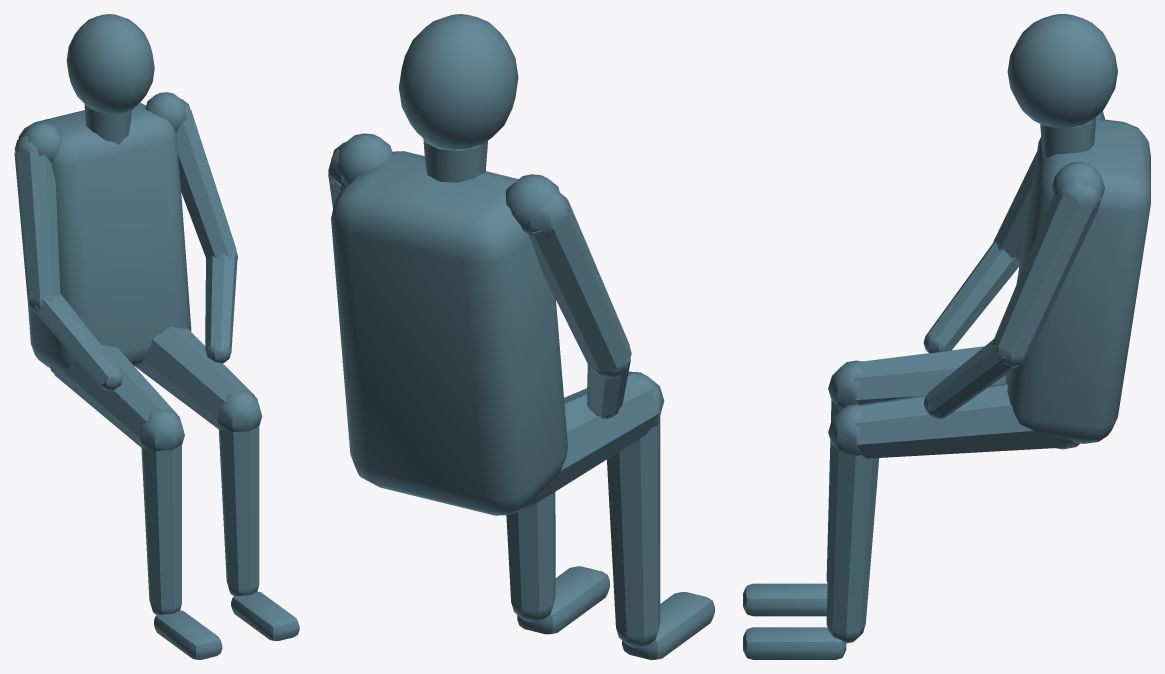
File: person-seated.glb
3 views of the same model, side by side, from view 1: azimuth 30°, elevation 25°; view 2: azimuth 150°, elevation 25°; view 3: azimuth 270°, elevation 25° (orthographic). The views are drawn at different scales.
Visible parts, largest first — view 1: person-seated; view 2: person-seated; view 3: person-seated.
Boxes of the visible parts, x1,y1,x2,y2 form: person-seated: (14,14,299,659); person-seated: (328,14,714,659); person-seated: (743,14,1150,659).
Bounding box in the file's own units: 0.536 × 1.32 × 0.7909.
